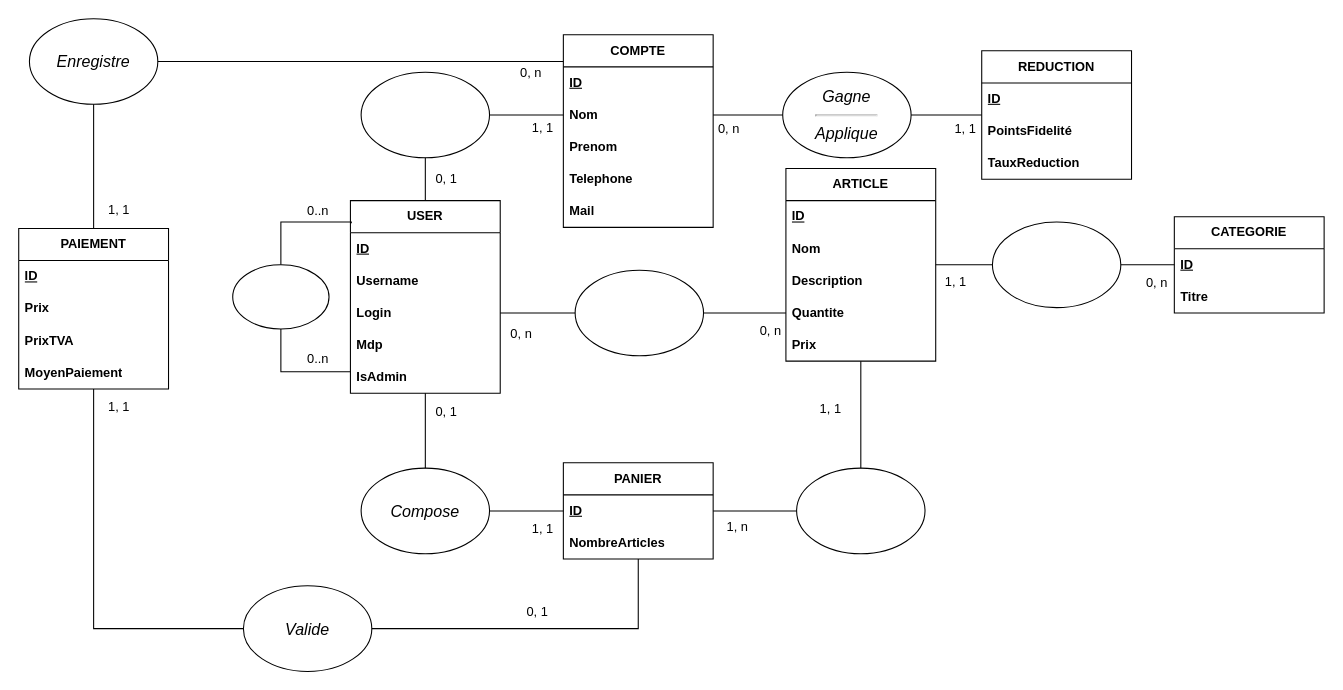
Image size: 1343x690. Some labels were removed from this diagram. Here are the shapes that lost their labels. From the top down, the centre of each, then its label:
(x=425, y=114): Crée Se Connecte
(x=1056, y=264): Présente
(x=280, y=296): Administre
(x=639, y=312): Commande
(x=860, y=510): Contient
